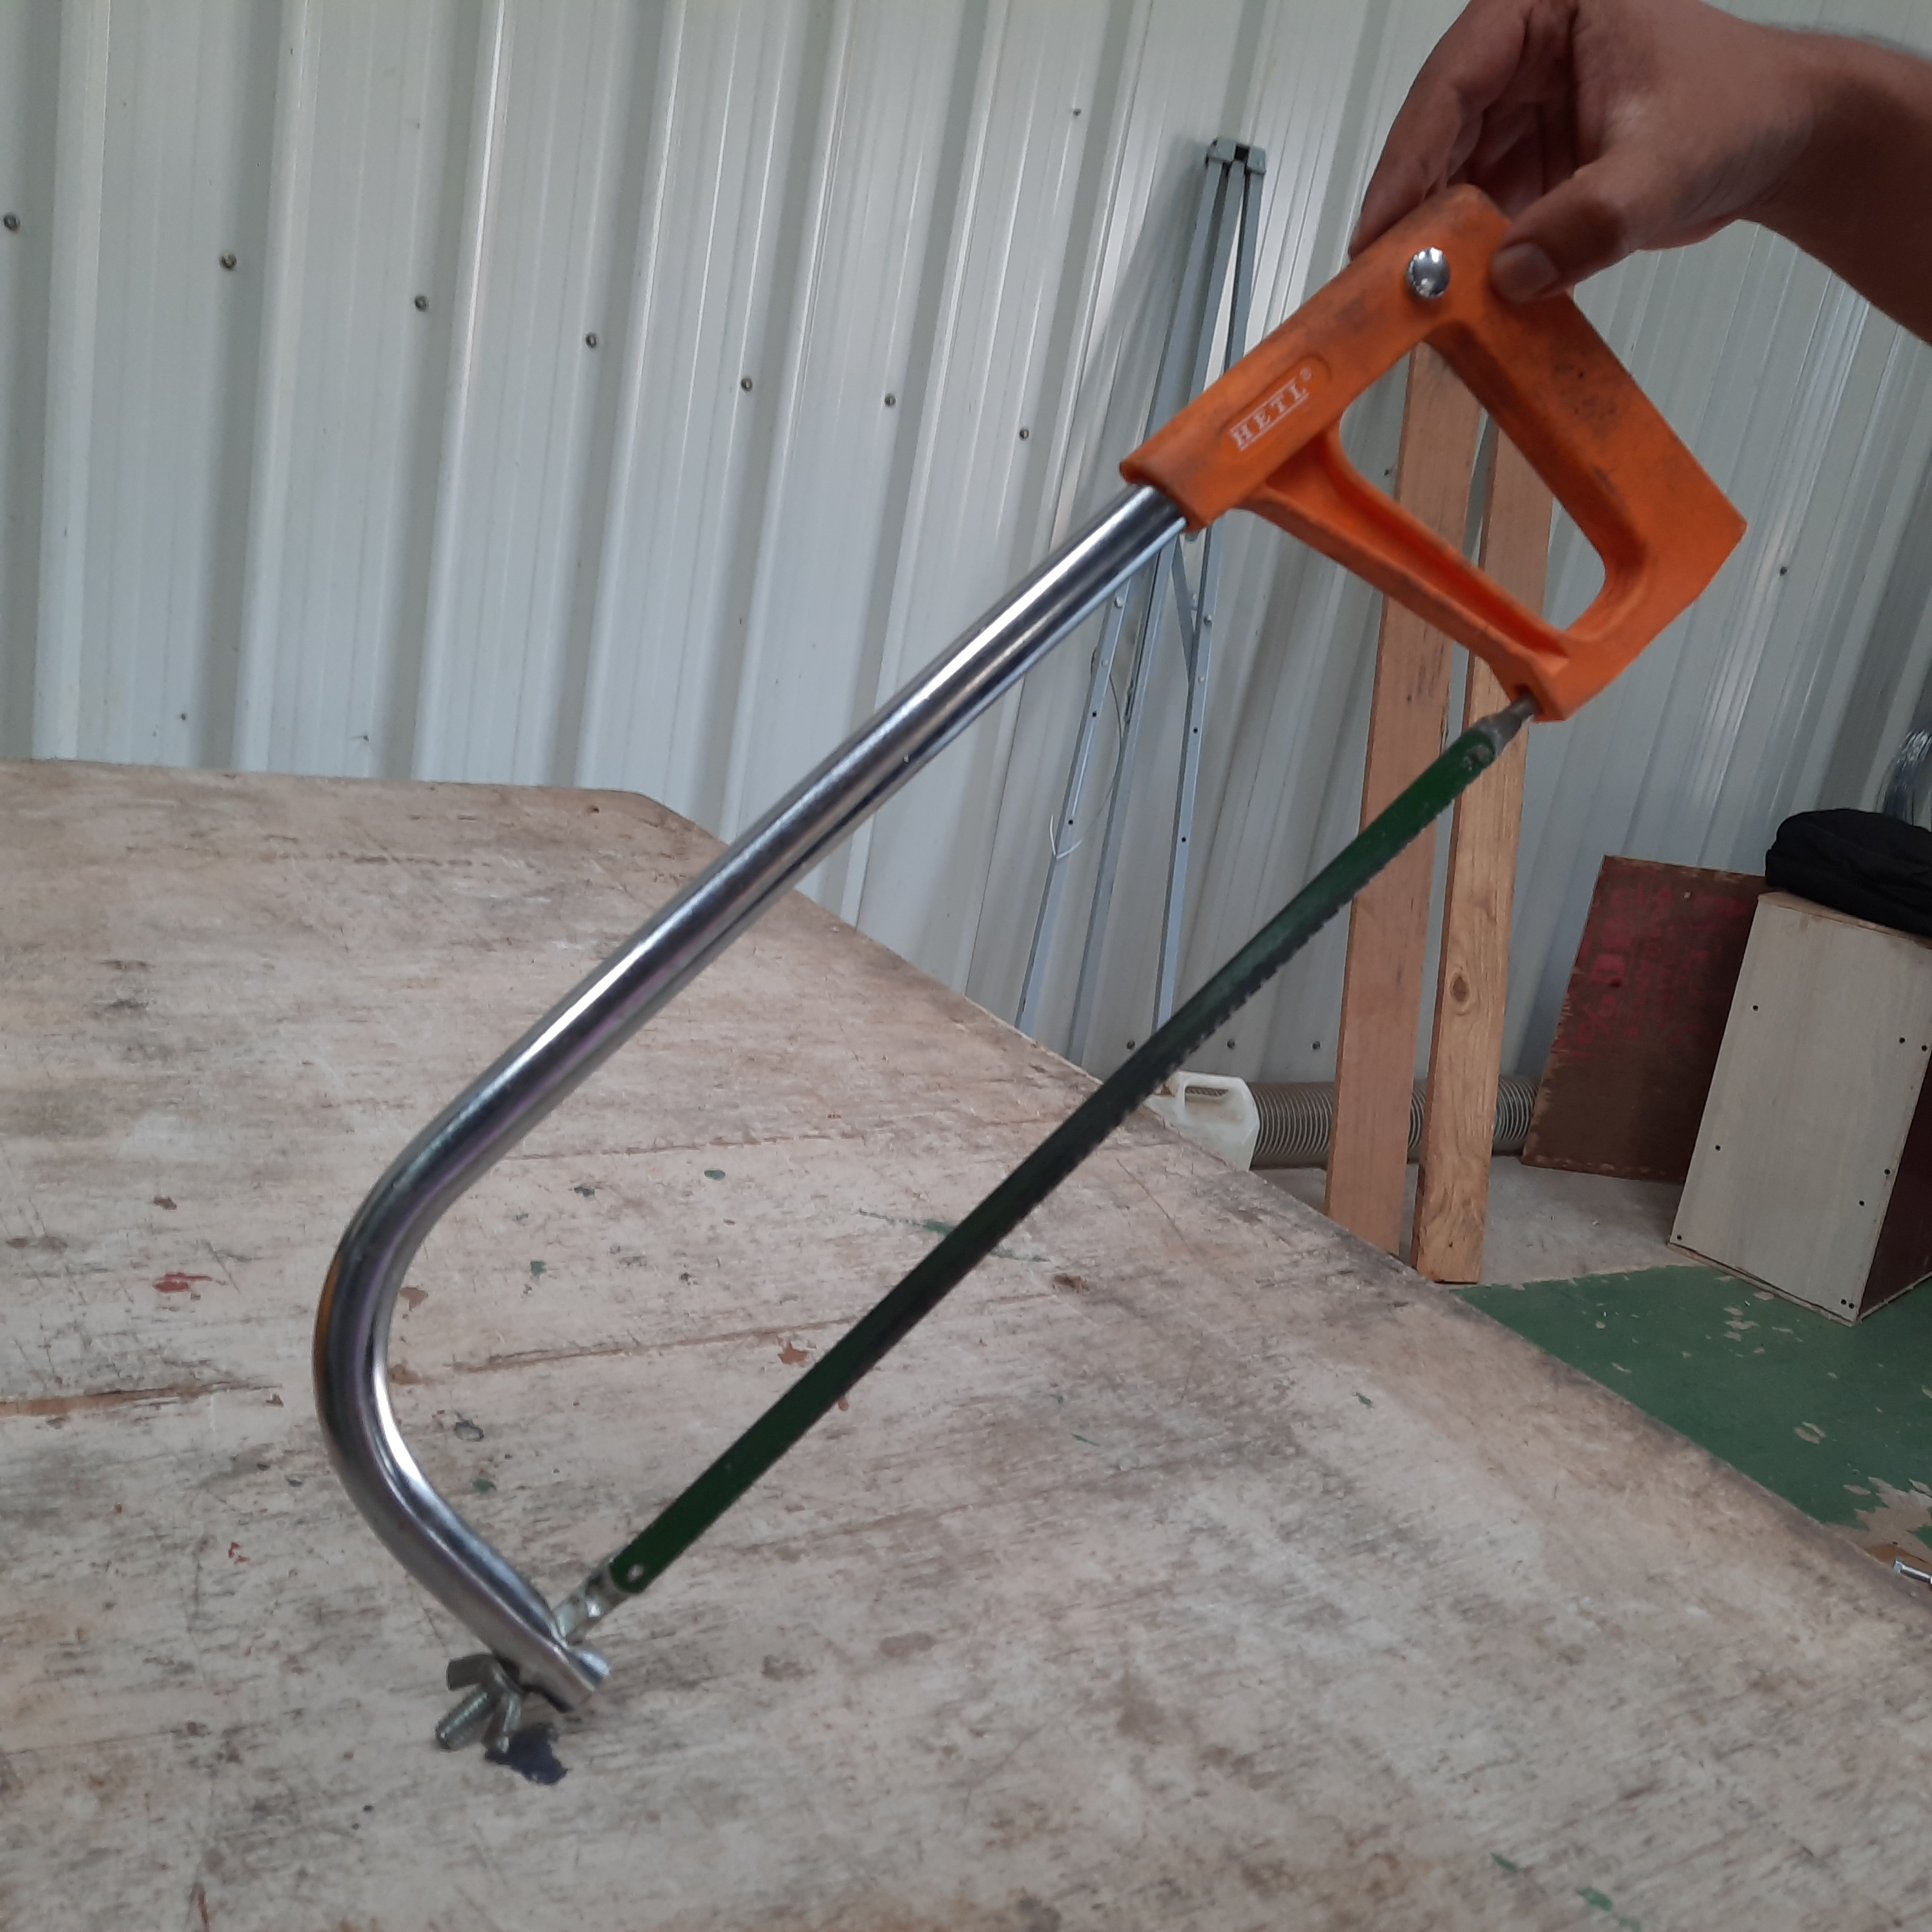Hexaframe: (290, 152, 1776, 1803)
